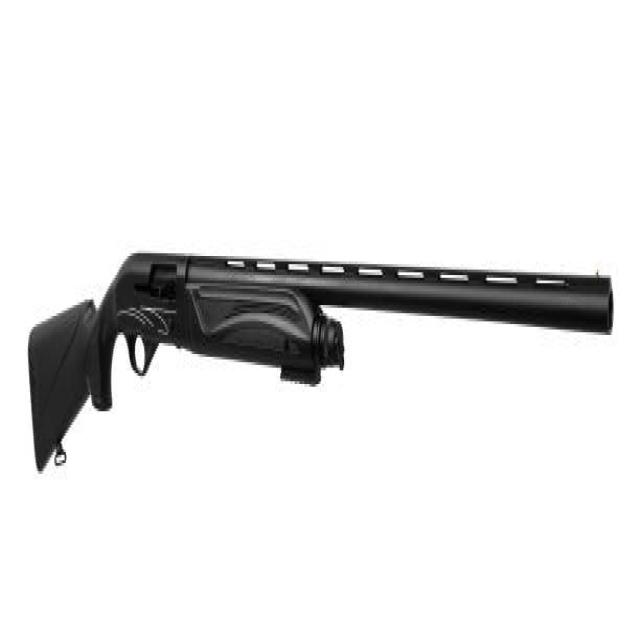rifle: (26, 229, 615, 489)
